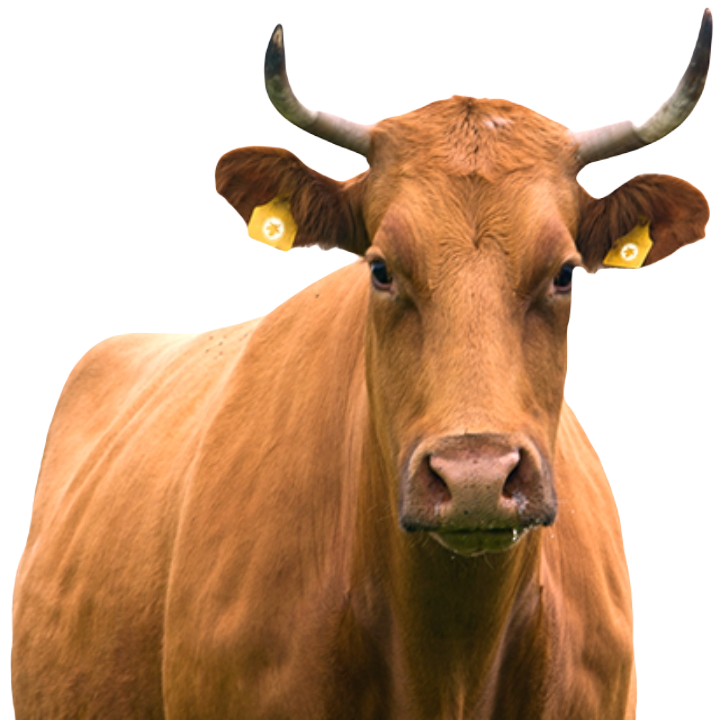Cow: (9, 0, 719, 720)
